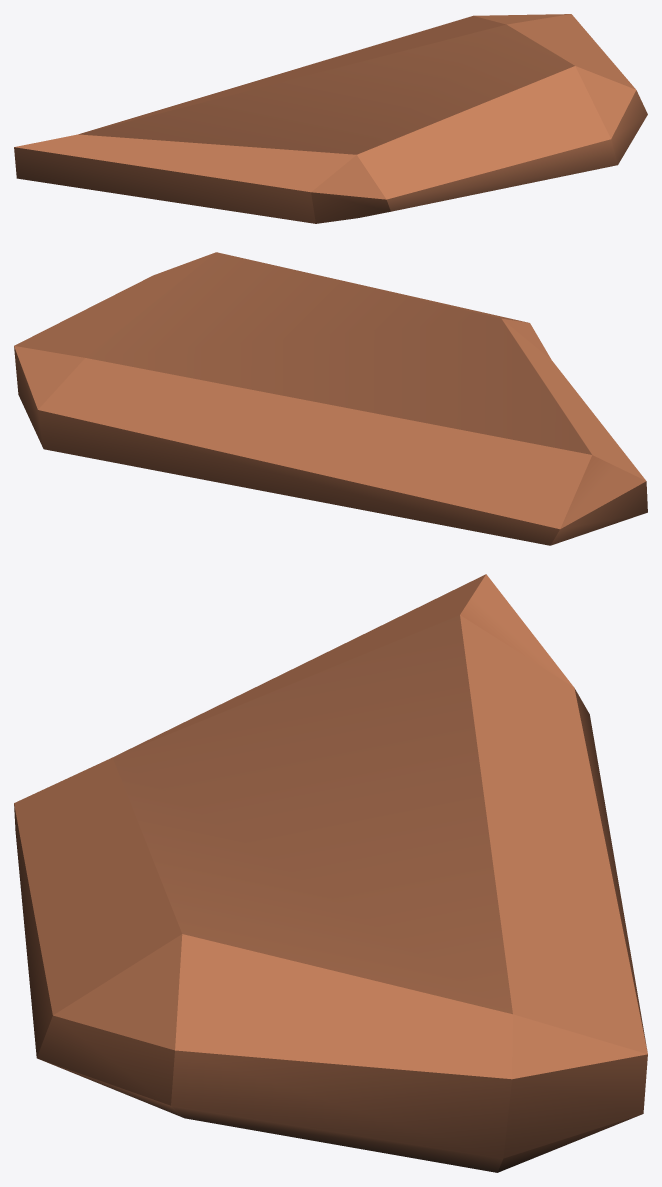
Rendered from Rock 2.glb.
3 renders of one model, top to bottom at view 1: azimuth 30°, elevation 25°; view 2: azimuth 150°, elevation 25°; view 3: azimuth 270°, elevation 25°, orthographic. The views are drawn at different scales.
Parts seen in each view (by area): view 1: Rock 2; view 2: Rock 2; view 3: Rock 2.
Part boxes in pixels (bbox=[...]): Rock 2: bbox=[14, 14, 647, 223]; Rock 2: bbox=[14, 252, 647, 545]; Rock 2: bbox=[14, 574, 647, 1172].
Size of the model in its own units: 2.33 by 0.4761 by 1.28.
Materials: 1 (1 with a texture image).
